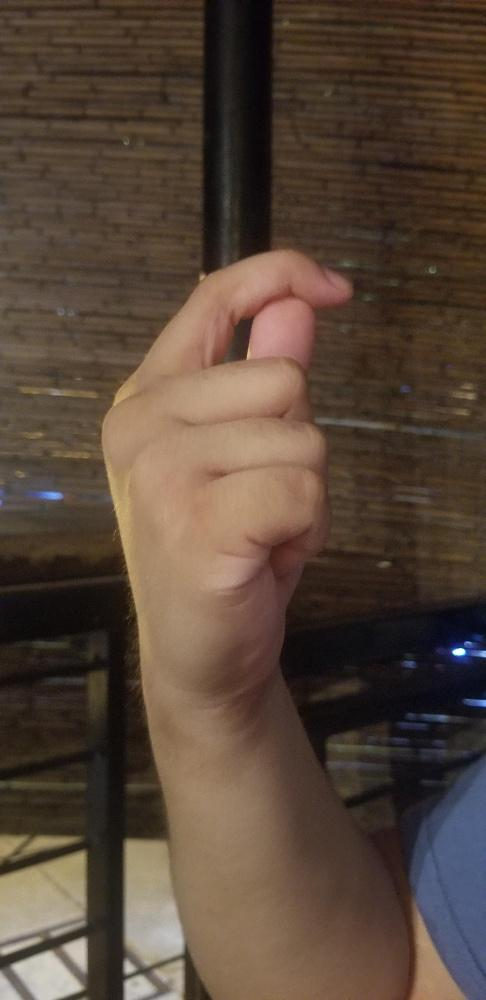t: (99, 245, 352, 677)
